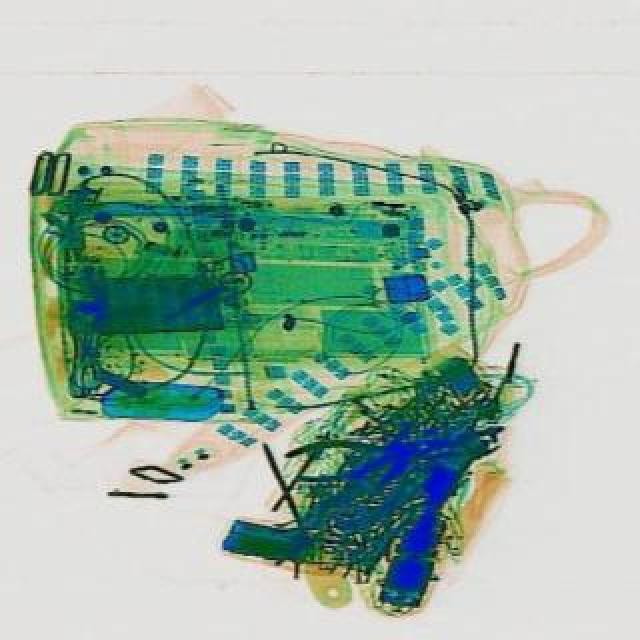wrench: (280, 420, 452, 488)
